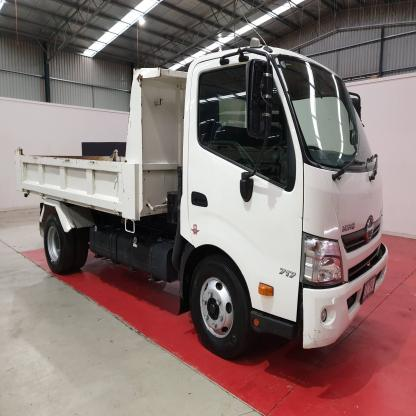dump_truck: (14, 44, 392, 371)
